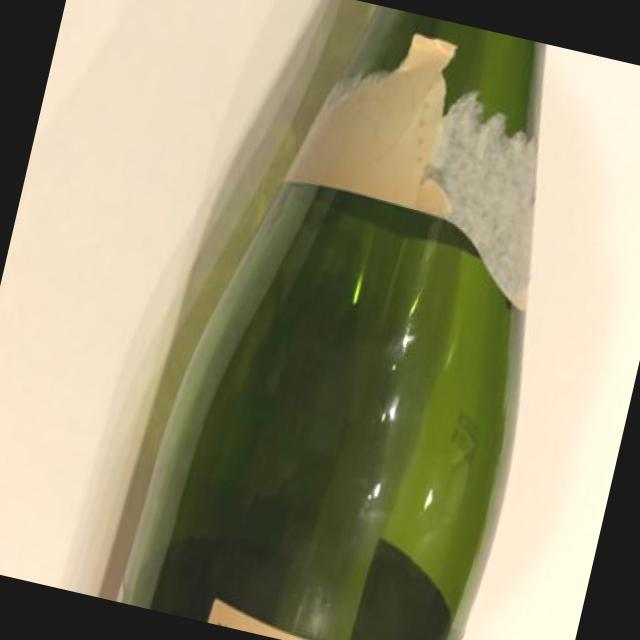chai_thuy_tinh: (116, 9, 542, 640)
